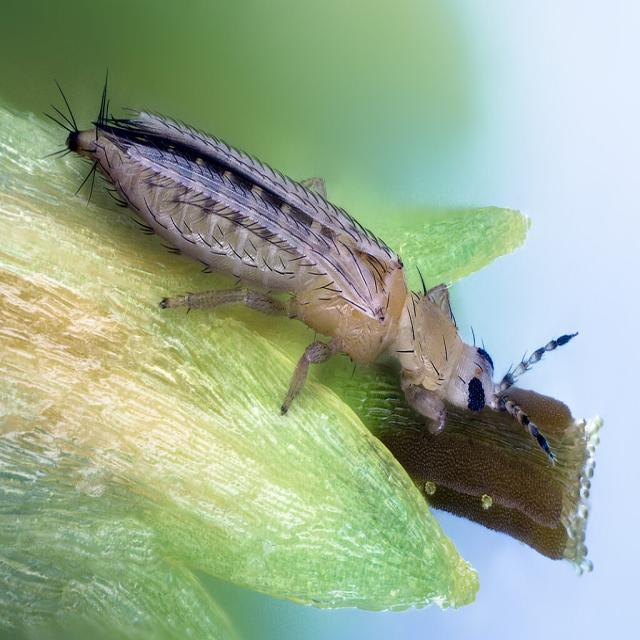Thrip-Adult-: (37, 56, 580, 470)
